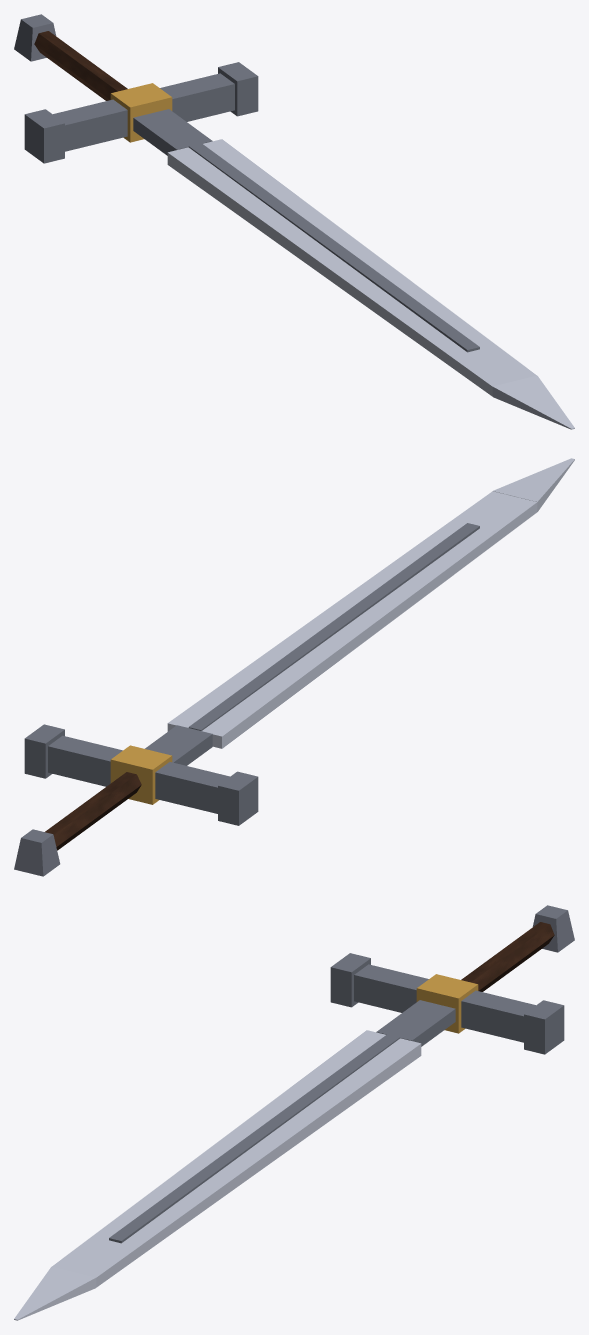
File: greatsword.glb
3 views of the same model, one above another, from view 1: azimuth 30°, elevation 25°; view 2: azimuth 150°, elevation 25°; view 3: azimuth 330°, elevation 25° (orthographic).
Visible parts, largest first — view 1: greatsword; view 2: greatsword; view 3: greatsword.
Part boxes in pixels (x1,y1,x2,y2): greatsword: (14,14,574,429); greatsword: (14,458,574,876); greatsword: (14,905,574,1320).
Size of the model in its own units: 0.51 by 0.08 by 2.25.
4 materials, 1 textured.
